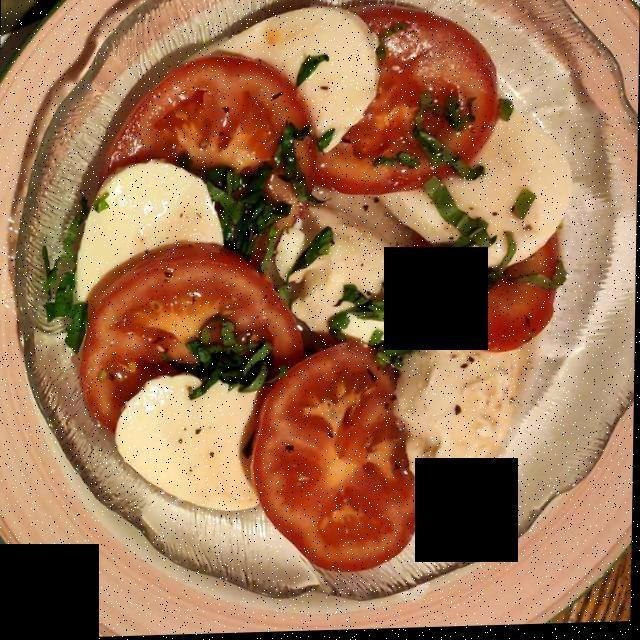salad: (63, 18, 551, 560), (328, 188, 420, 261)
